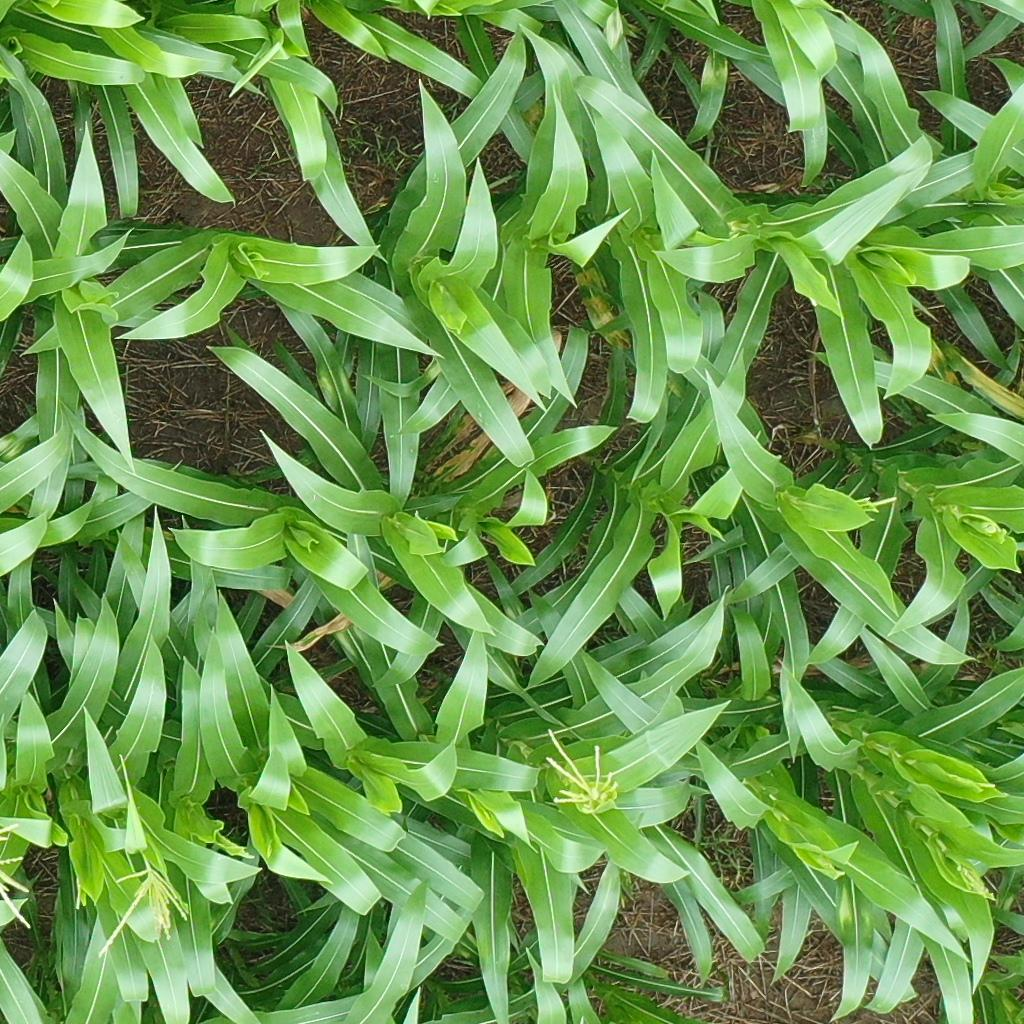Tassel: (86, 852, 196, 959), (541, 726, 624, 813), (1, 814, 41, 932), (957, 860, 1001, 906), (958, 513, 1010, 548), (858, 489, 898, 522)
